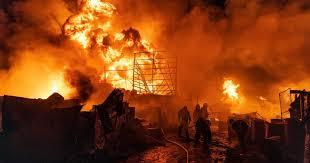fire: (61, 0, 166, 98), (13, 54, 77, 99), (210, 66, 255, 106)
